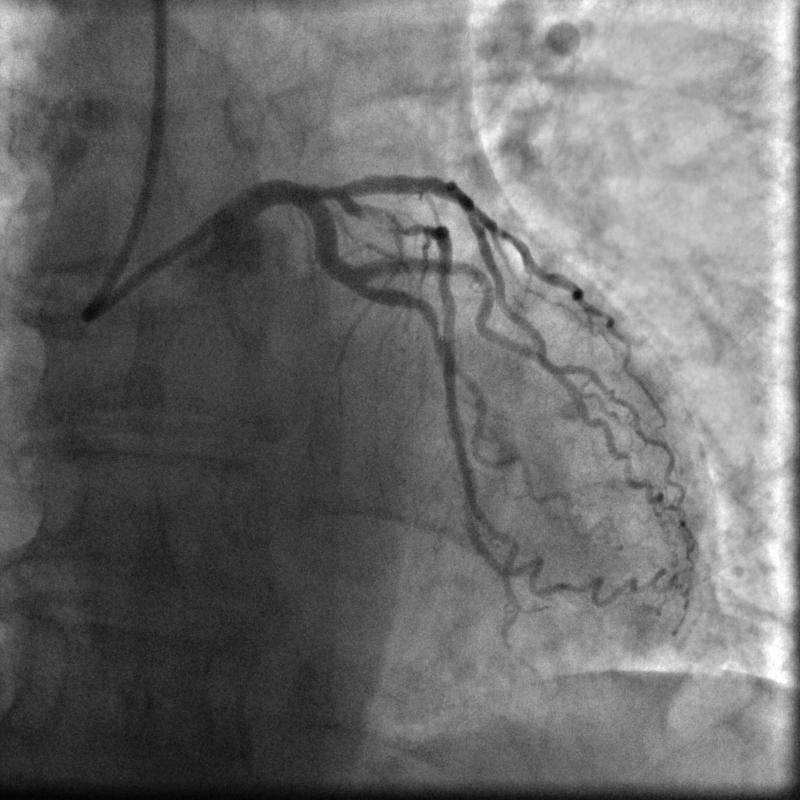Stenosis: (358, 197, 426, 238)
